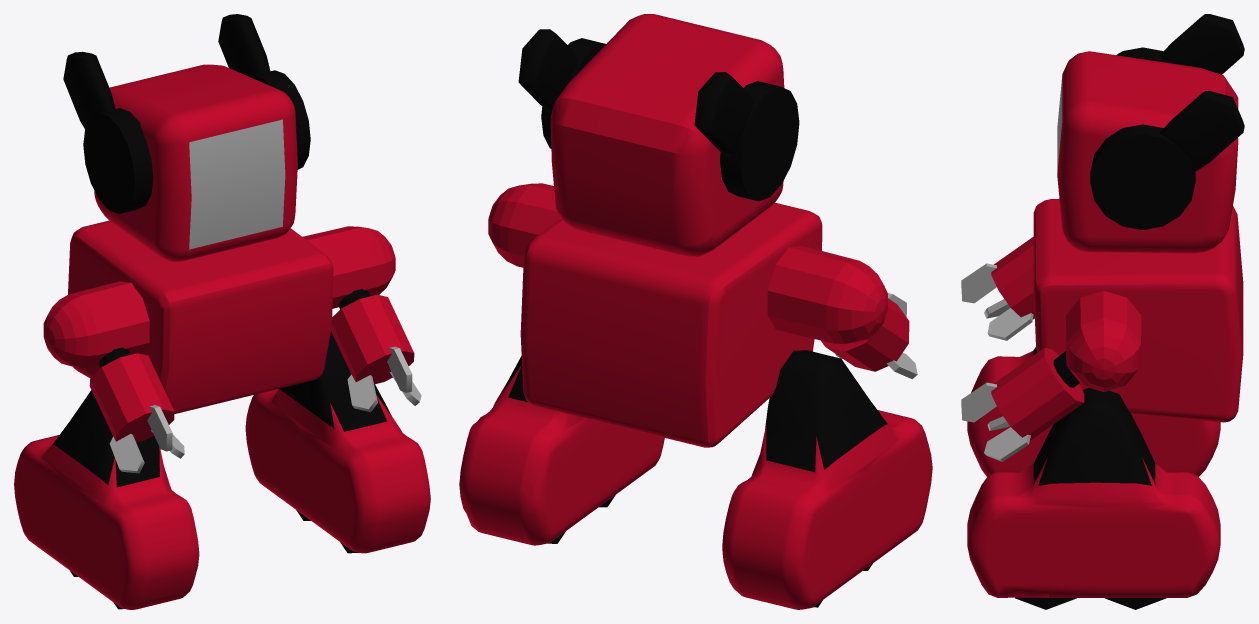
The model's file is Robot.fbx.
The picture shows the model from 3 angles, left to right: view 1: azimuth 30°, elevation 25°; view 2: azimuth 150°, elevation 25°; view 3: azimuth 270°, elevation 25°; orthographic projection. The views are drawn at different scales.
Parts seen in each view (by area): view 1: BodyRobot, Head, R_Foot, L_Foot, pCylinder10 (×2), R_Shoulder, pCylinder3, pCube6 (×2), L_Shoulder, pCylinder2, pCube8 (×2), pCube9 (+1 smaller); view 2: BodyRobot, Head, R_Foot, L_Foot, R_Shoulder, pCube6 (×2), pCylinder3, L_Shoulder, pCylinder10, pCylinder2; view 3: L_Foot, BodyRobot, Head, pCylinder2, pCube6 (×2), pCylinder10 (×2), R_Foot, L_Shoulder, pCube8 (×2), pCube9, pCube10, pCylinder3 (+3 smaller).
Boxes of the visible parts, box(x1,y1,x2,y2) form: BodyRobot: box(68, 220, 333, 413); Head: box(94, 64, 297, 261); R_Foot: box(14, 390, 199, 609); L_Foot: box(245, 331, 430, 553); pCylinder10 (×2): box(89, 294, 414, 442); R_Shoulder: box(43, 281, 149, 367); pCylinder3: box(83, 108, 153, 213); pCube6 (×2): box(63, 14, 270, 128); L_Shoulder: box(302, 226, 395, 308); pCylinder2: box(250, 70, 310, 169); pCube8 (×2): box(147, 346, 412, 451); pCube9: box(109, 434, 144, 473); BodyRobot: box(520, 202, 822, 447); Head: box(550, 14, 784, 256); R_Foot: box(722, 350, 932, 609); L_Foot: box(459, 356, 664, 545); R_Shoulder: box(767, 245, 887, 343); pCube6 (×2): box(518, 29, 753, 156); pCylinder3: box(720, 81, 799, 201); L_Shoulder: box(488, 183, 561, 267); pCylinder10: box(821, 298, 909, 371); pCylinder2: box(541, 38, 605, 148); L_Foot: box(967, 388, 1220, 597); BodyRobot: box(1033, 199, 1243, 422); Head: box(1057, 51, 1238, 253); pCylinder2: box(1090, 124, 1195, 229); pCube6 (×2): box(1160, 14, 1244, 172); pCylinder10 (×2): box(991, 237, 1084, 440); R_Foot: box(967, 347, 1220, 476); L_Shoulder: box(1066, 290, 1141, 391); pCube8 (×2): box(961, 263, 996, 422); pCube9: box(984, 427, 1030, 461); pCube10: box(987, 308, 1033, 340); pCylinder3: box(1116, 47, 1167, 62).
Size of the model in its own units: 6.85 by 9.23 by 4.81.
